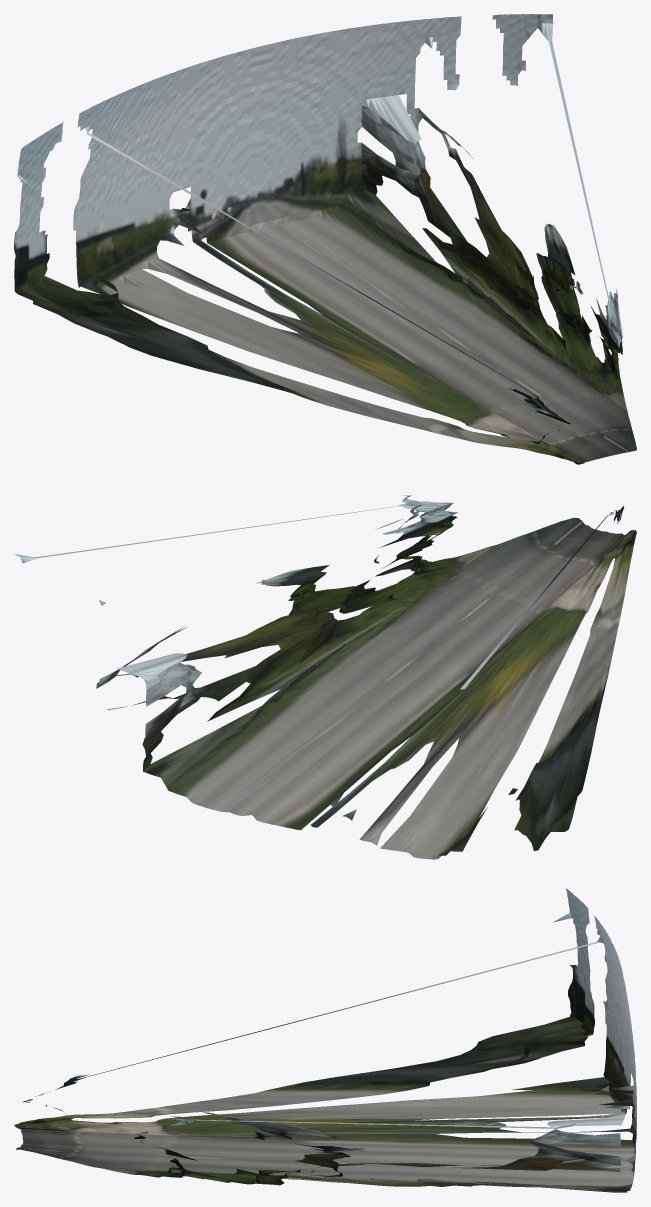
The picture shows the model from 3 angles, top to bottom: view 1: azimuth 30°, elevation 25°; view 2: azimuth 150°, elevation 25°; view 3: azimuth 270°, elevation 25°; orthographic projection. The views are drawn at different scales.
Visible parts, largest first — view 1: defaultobject; view 2: defaultobject; view 3: defaultobject.
Boxes of the visible parts, box(x1,y1,x2,y2) form: defaultobject: box(14, 14, 636, 464); defaultobject: box(15, 495, 636, 859); defaultobject: box(14, 888, 636, 1192).
Bounding box in the file's own units: 39.73 × 13.86 × 45.06.
Materials: 1 (1 with a texture image).
